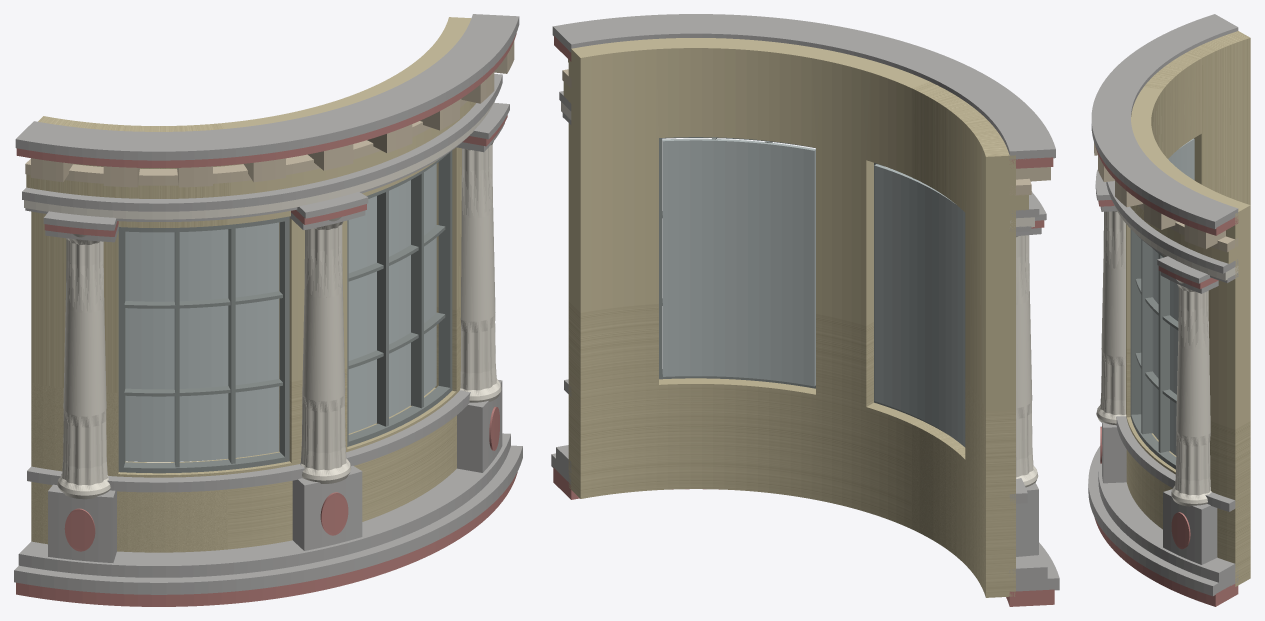
Rendered from xiangyang-525-fluted-round-bay-near.glb.
3 views of the same model, side by side, from view 1: azimuth 30°, elevation 25°; view 2: azimuth 150°, elevation 25°; view 3: azimuth 270°, elevation 25° (orthographic). The views are drawn at different scales.
Parts seen in each view (by area): view 1: 襄阳南路525号住宅弧形窗廊与椭圆饰墩; view 2: 襄阳南路525号住宅弧形窗廊与椭圆饰墩; view 3: 襄阳南路525号住宅弧形窗廊与椭圆饰墩.
Part boxes in pixels (<box>): 襄阳南路525号住宅弧形窗廊与椭圆饰墩: <box>14,14,522,606</box>; 襄阳南路525号住宅弧形窗廊与椭圆饰墩: <box>551,14,1059,606</box>; 襄阳南路525号住宅弧形窗廊与椭圆饰墩: <box>1088,14,1250,606</box>.
Bounding box in the file's own units: 3.64 × 3.12 × 1.19.
7 materials, 1 textured.
